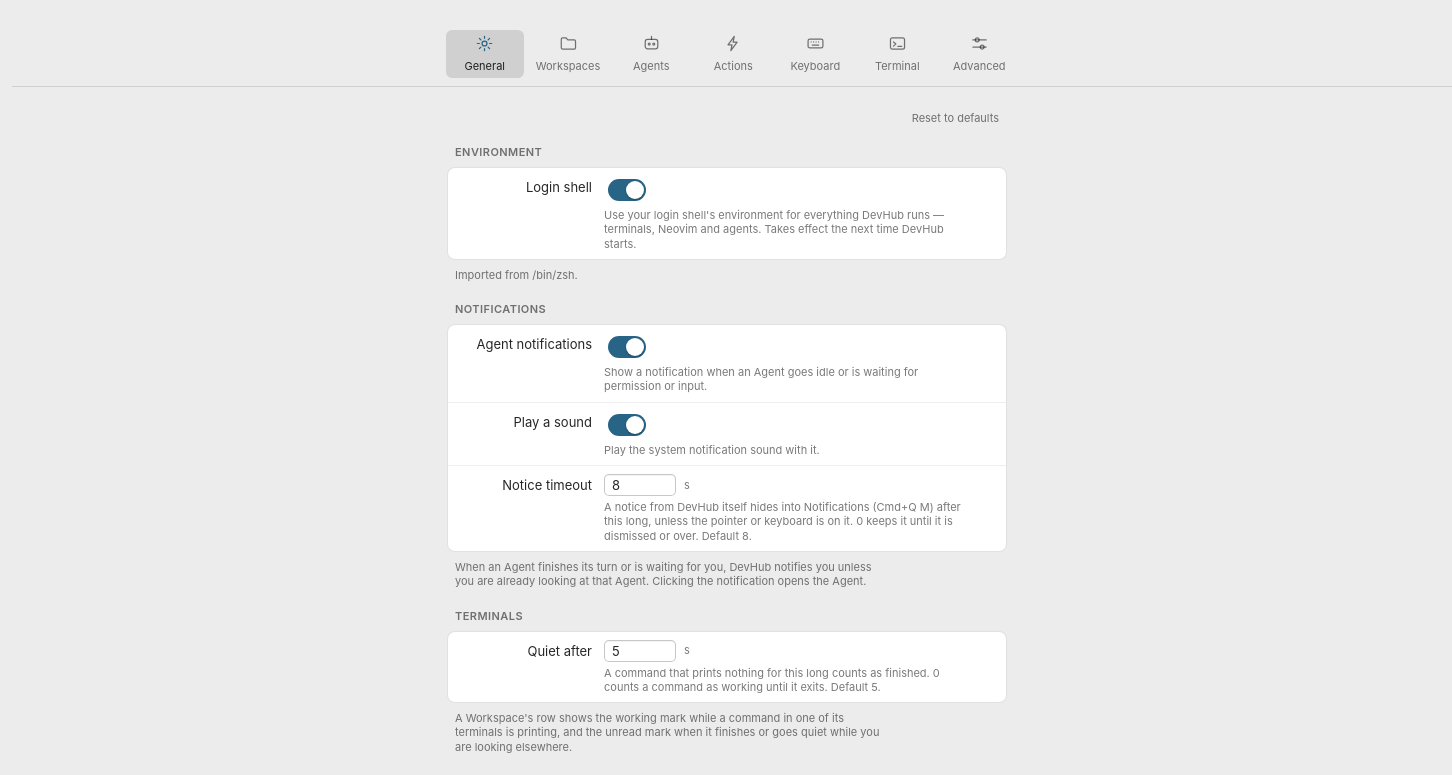
it: a collection of workspace sources › shows a date source as its own form, and saves what is typed there
The width and height of the screenshot is (1452, 775).
Click the tab "Workspaces" at (568, 54), box [528,30,608,78]
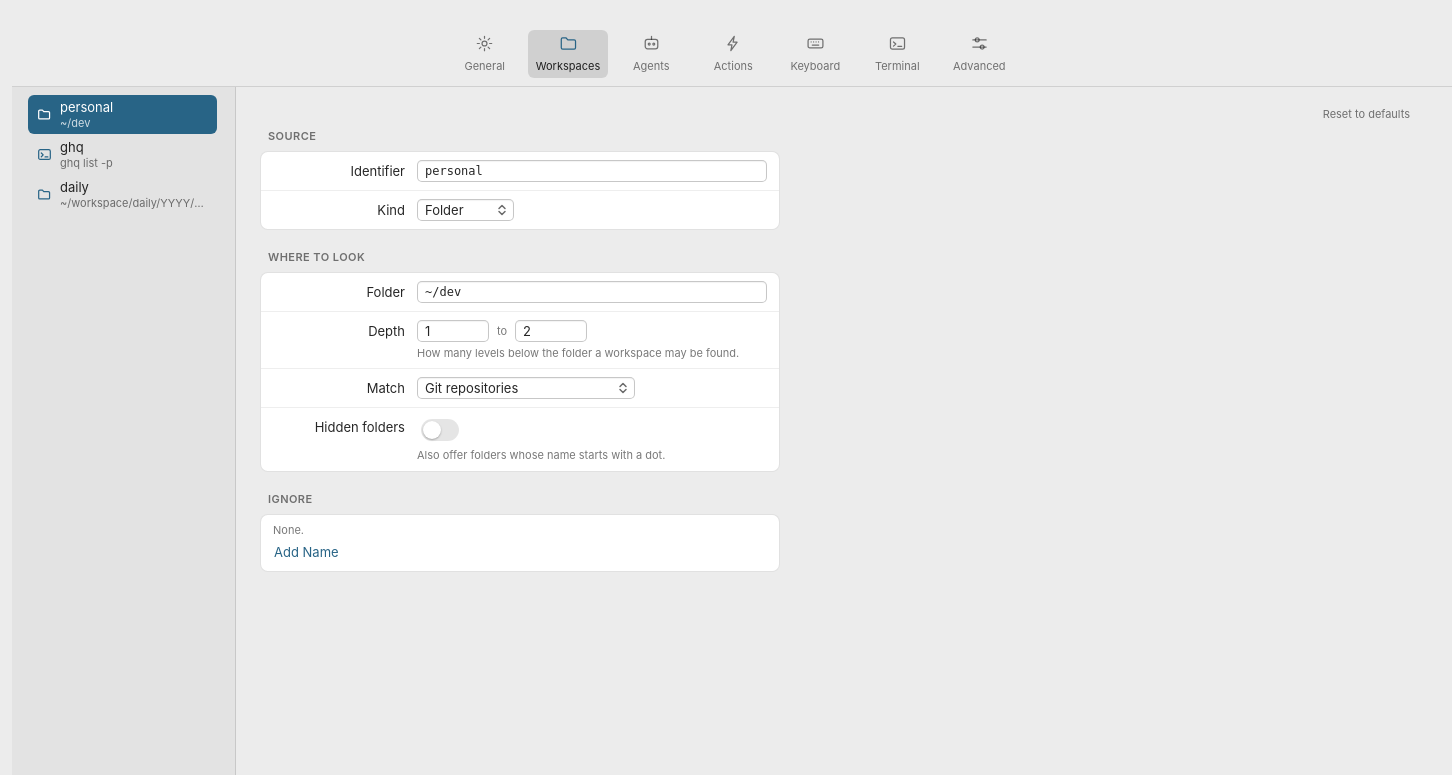
Press ArrowDown in the list, box [28,95,230,210]
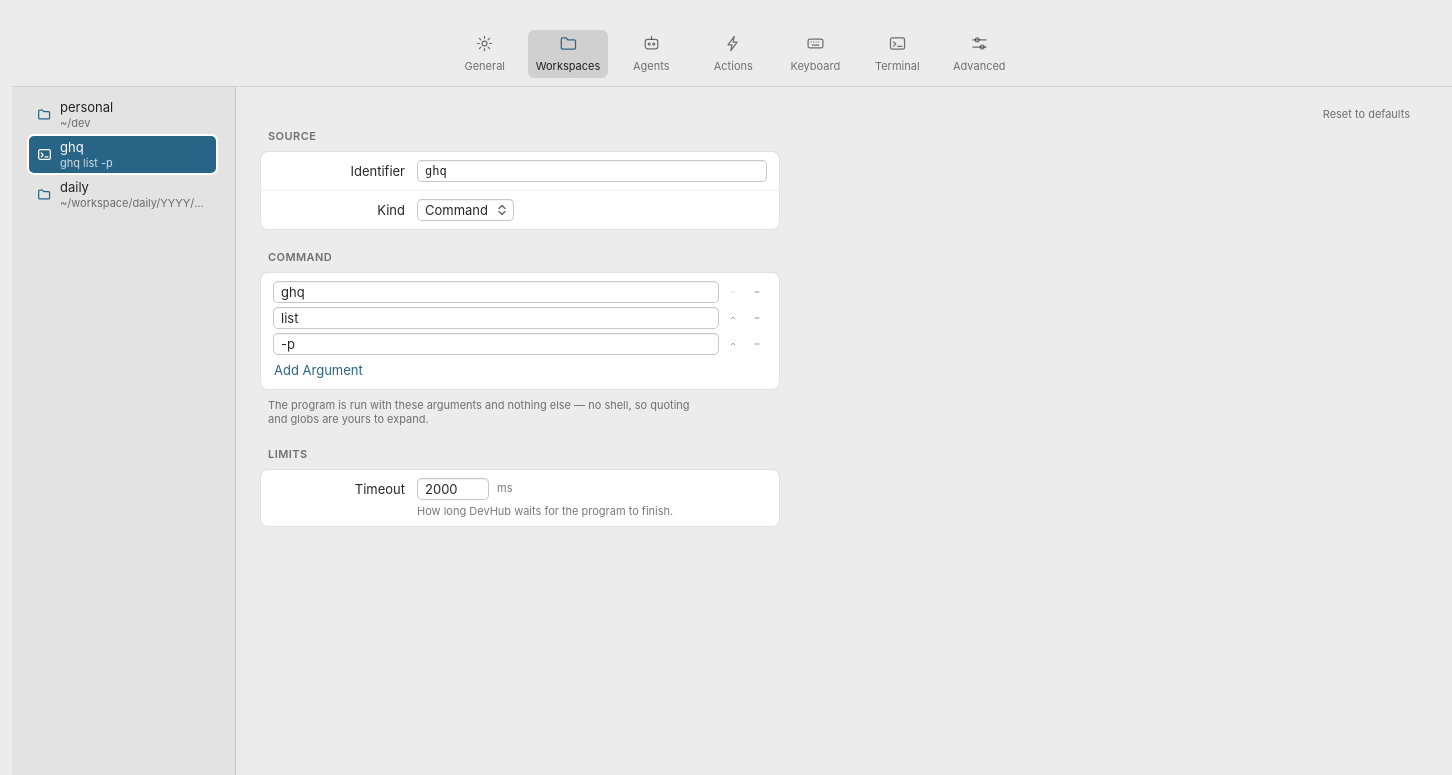
Press ArrowDown in the list, box [28,99,230,210]
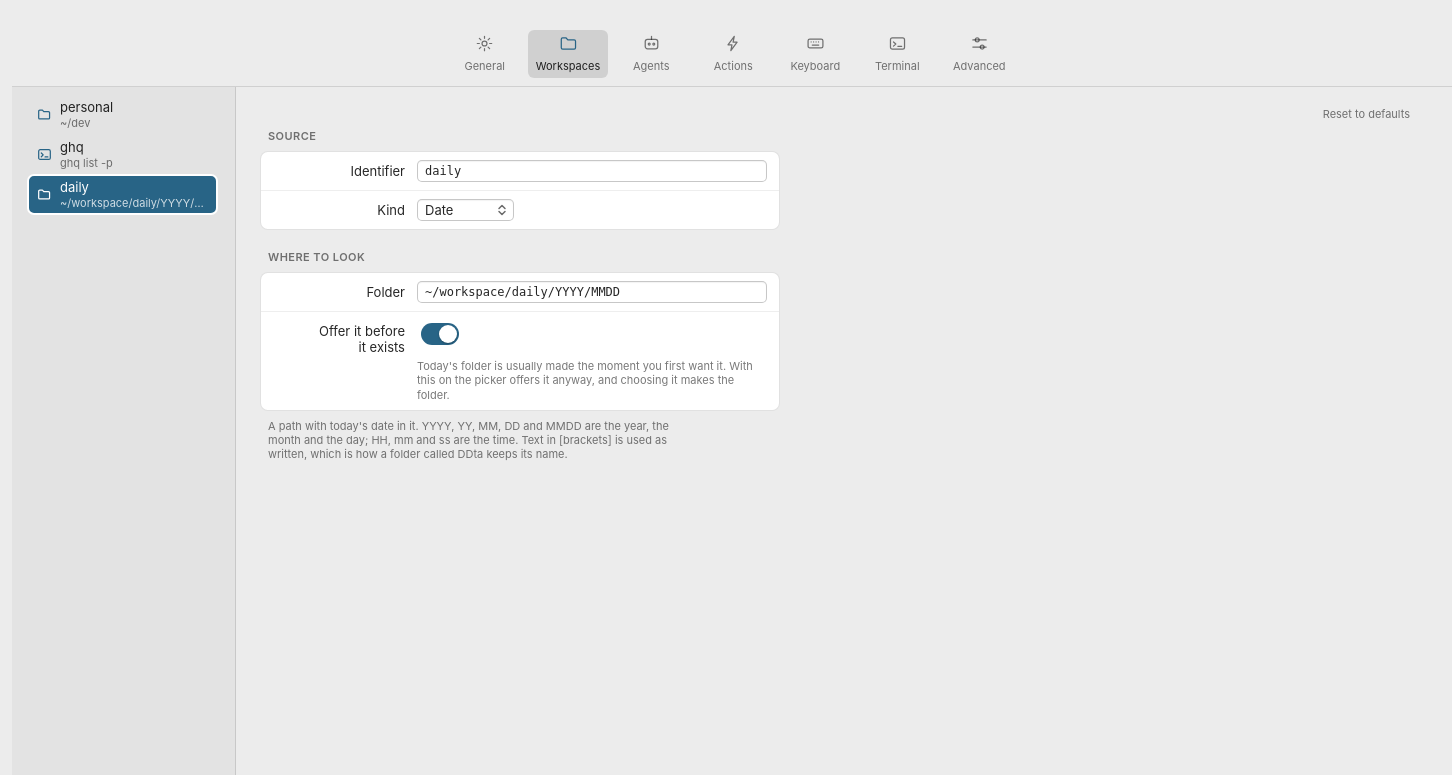
expect the option "daily ~/workspace/daily/YYYY/MMDD" is shown: met, box [28,175,217,214]
expect the field named "Dated workspace path" holds "~/workspace/daily/YYYY/MMDD": met
Type "~/notes/YYYY-MM-DD" into the field named "Dated workspace path" at (592, 292), box [417,281,767,303]
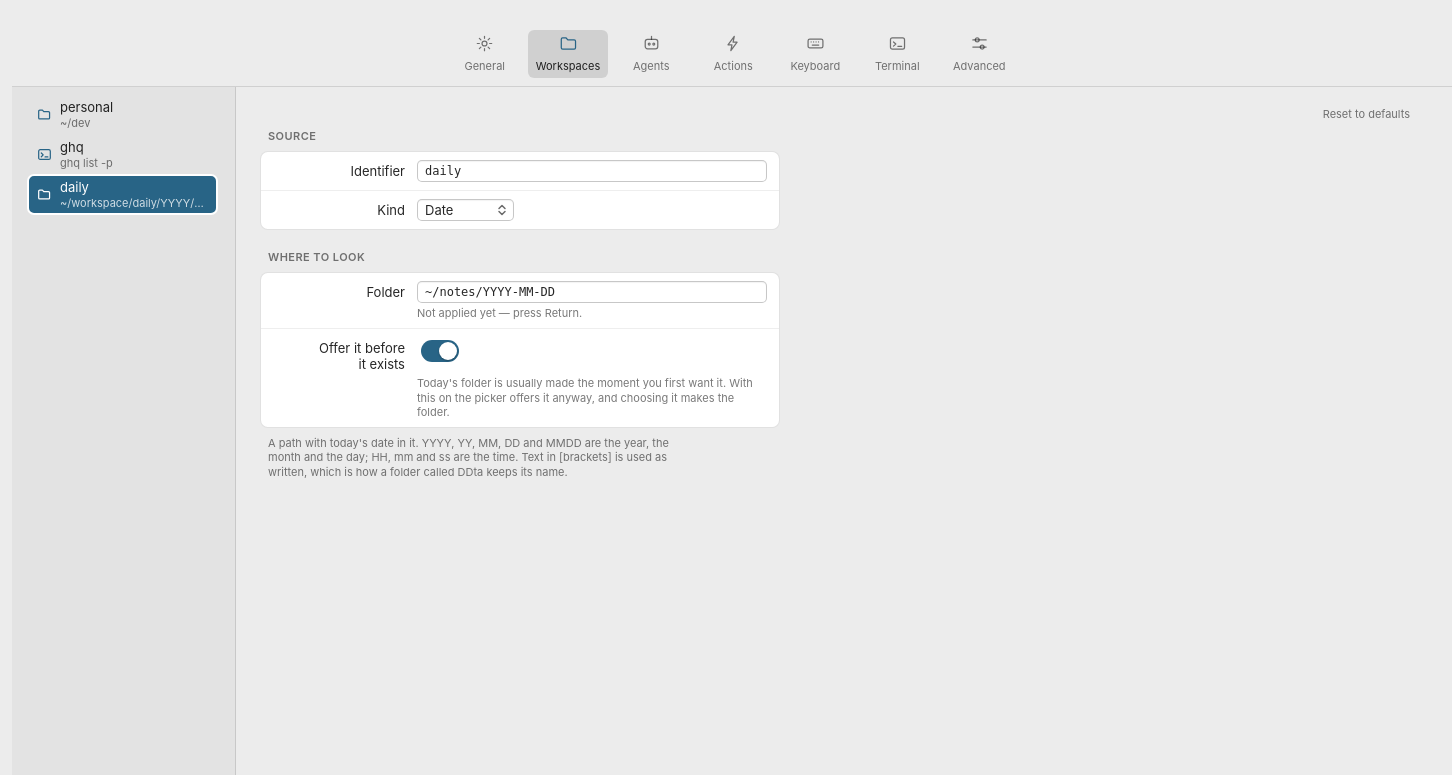
Leave the field named "Dated workspace path", box [417,281,767,303]
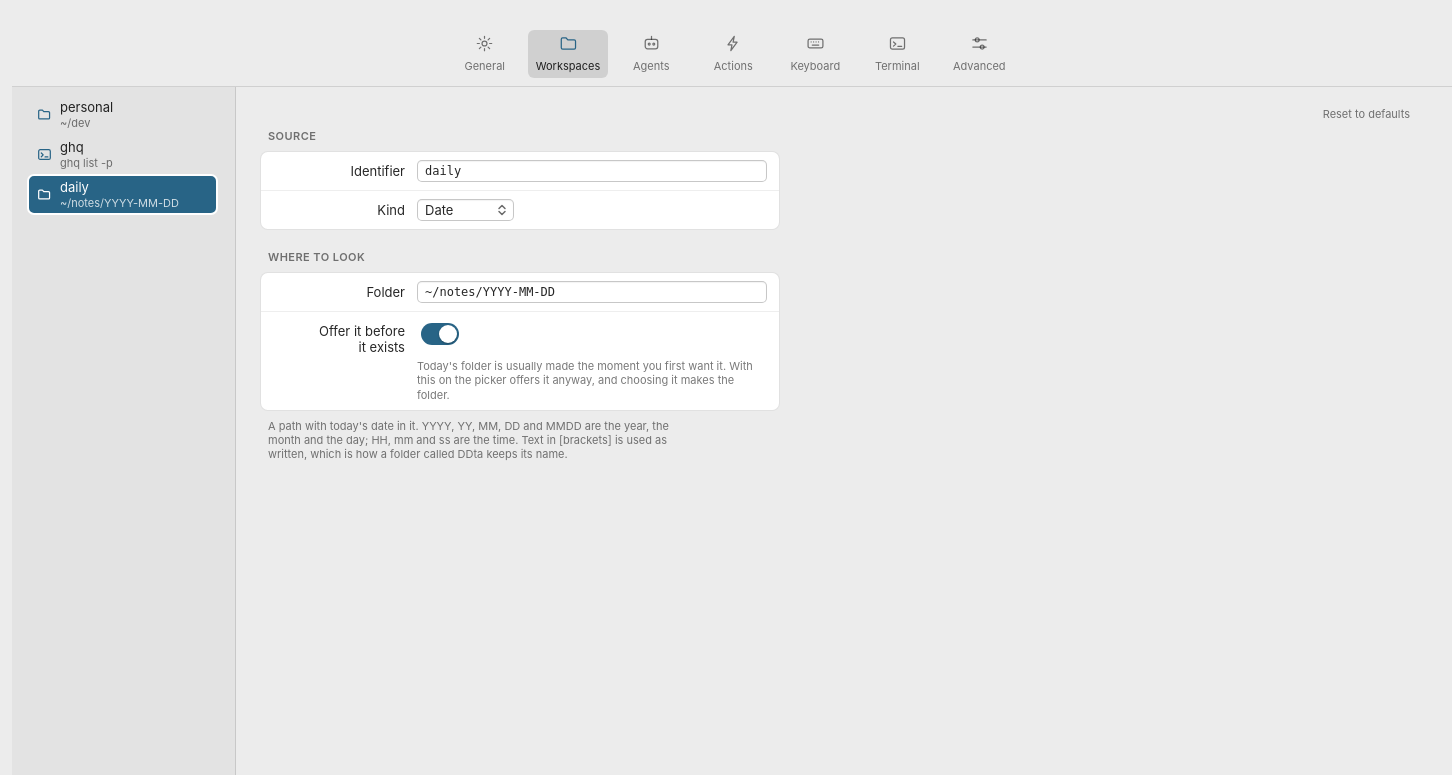
expect the text "~/notes/YYYY-MM-DD" is shown: met, box [60,196,179,210]
